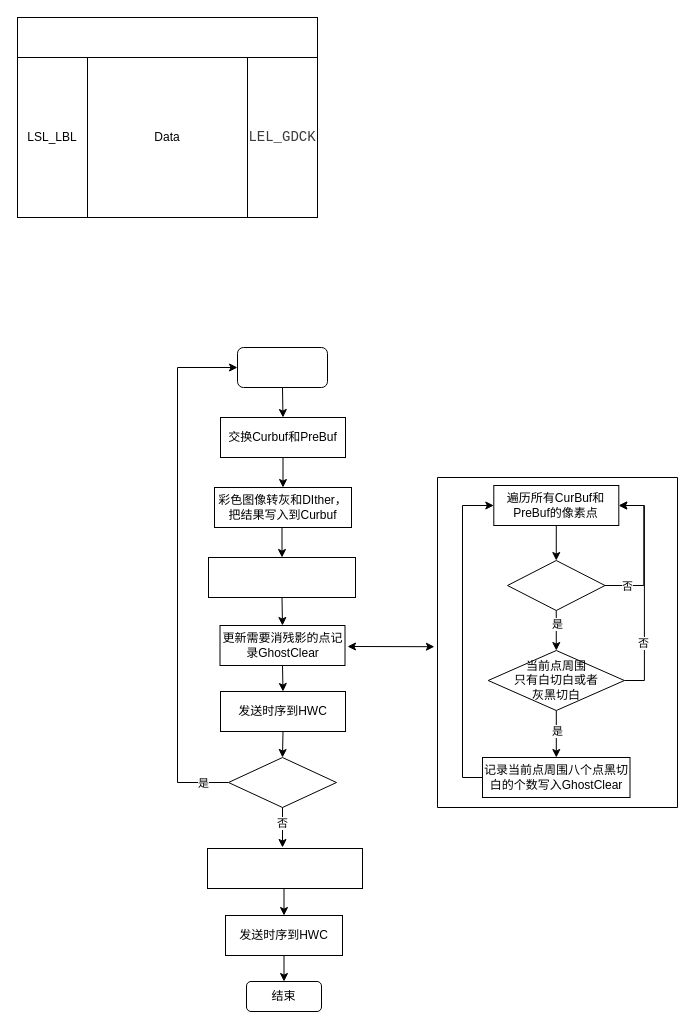
Some shapes in this 695 by 1029 pixel diagram are drawn without their labels. Each missing label, with the centre of its shape:
SPV: [167,37]
当前点是 白切白: [555,585]
是否有新 页面 刷新: [282,782]
逐像素遍历CurBuf和PreBuf查询波形表合成时序: [282,577]
逐像素遍历GhostClear并根据消残影波形合成时序: [284,868]
页面更新: [282,367]
